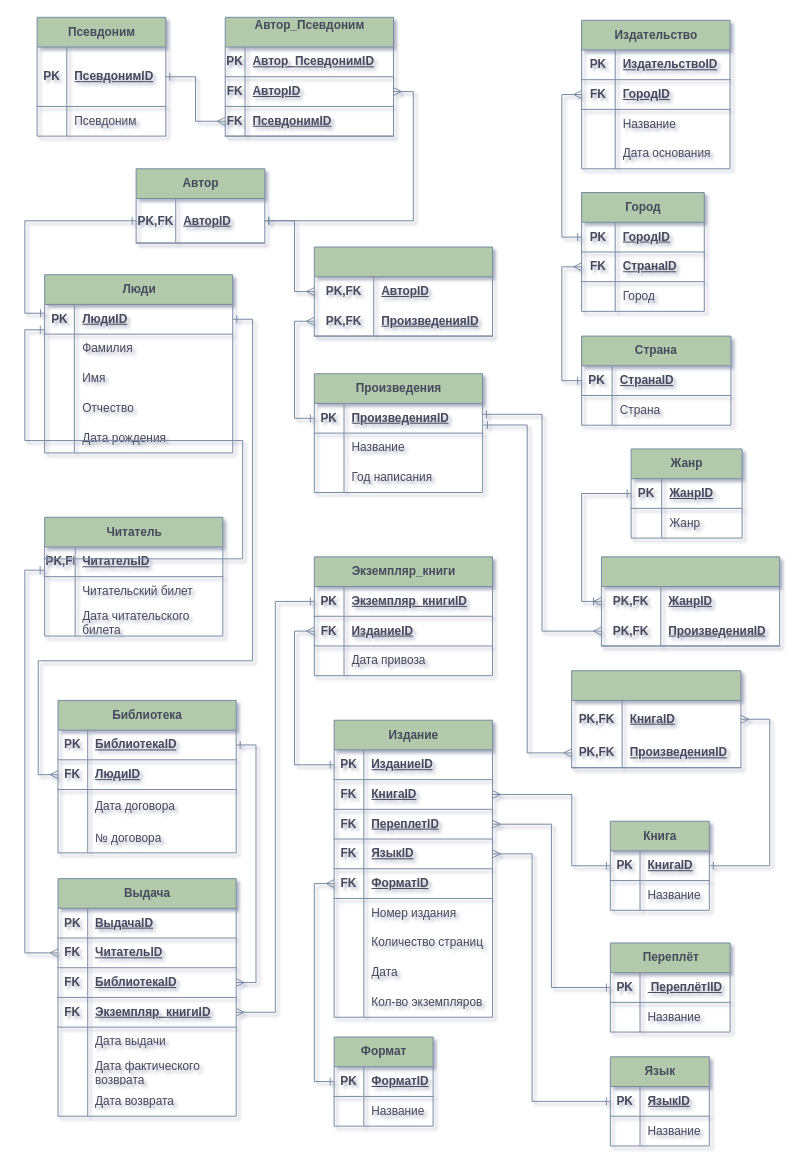
Some shapes in this 804 by 1169 pixel diagram are drawn without their labels. Here are the shapes that lost their labels. From the top down, the box of each, then its label:
(313, 246, 493, 336): Автор_Произведения
(600, 556, 780, 646): Жанр_Произведения
(571, 670, 741, 768): Книга_Произведения
